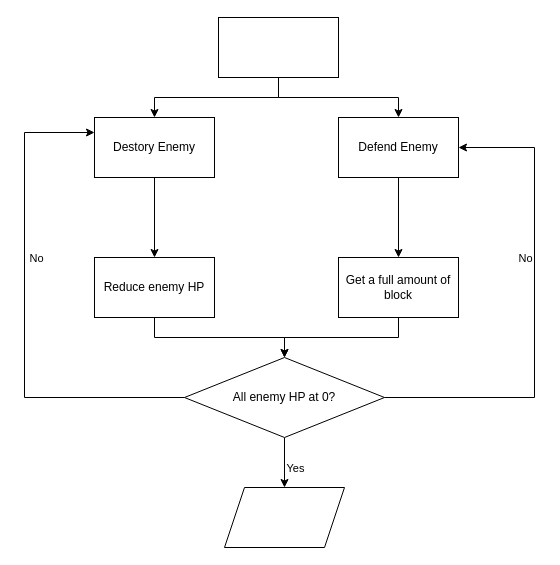
The diagram is 560 pixels wide and 565 high, and some of its shapes have lost their labels. Here are the shapes that lost their labels. From the top down, the box of each, then its label:
(218, 16, 338, 78): Combat Begin
(224, 486, 344, 548): Combat Finished
